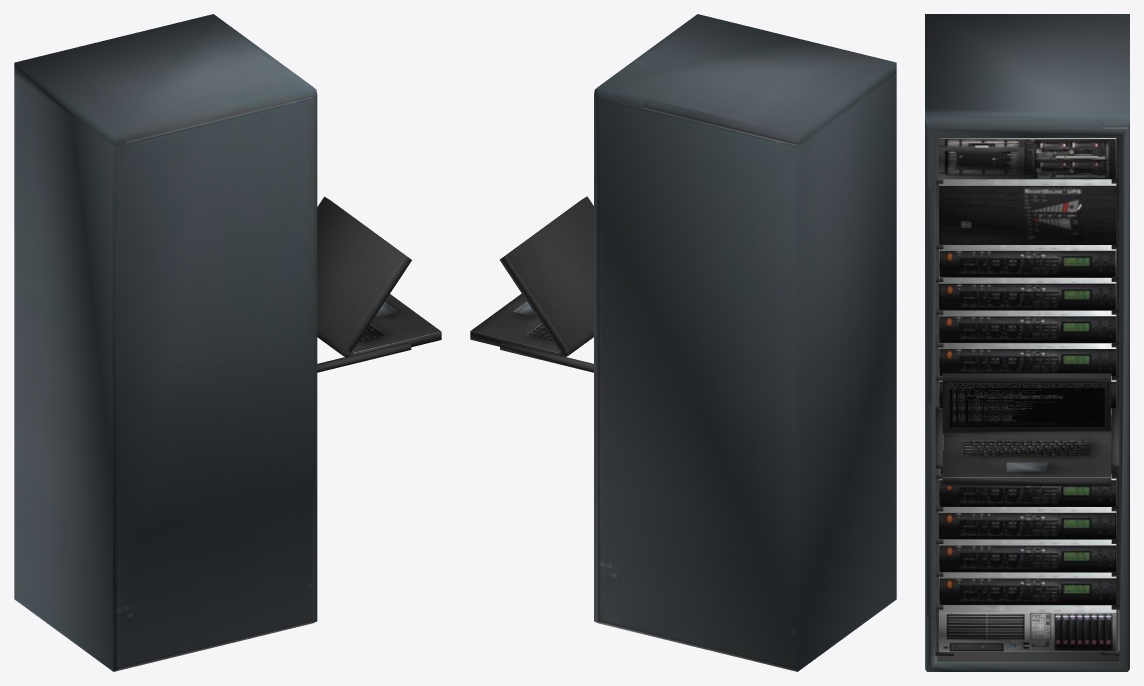
File: server-rack-console.glb
The picture shows the model from 3 angles, left to right: view 1: azimuth 30°, elevation 25°; view 2: azimuth 150°, elevation 25°; view 3: azimuth 270°, elevation 25°; orthographic projection. The views are drawn at different scales.
Visible parts, largest first — view 1: Object_4, Object_2; view 2: Object_4, Object_2; view 3: Object_3, Object_4, Object_2.
Part boxes in pixels (x1,y1,x2,y2): Object_4: (14,14,411,671); Object_2: (317,196,441,356); Object_4: (500,14,896,671); Object_2: (470,196,593,356); Object_3: (939,138,1116,651); Object_4: (925,14,1129,671); Object_2: (942,373,1111,486).
Size of the model in its own units: 1.31 by 2 by 0.6694.
3 materials, 3 textured.
